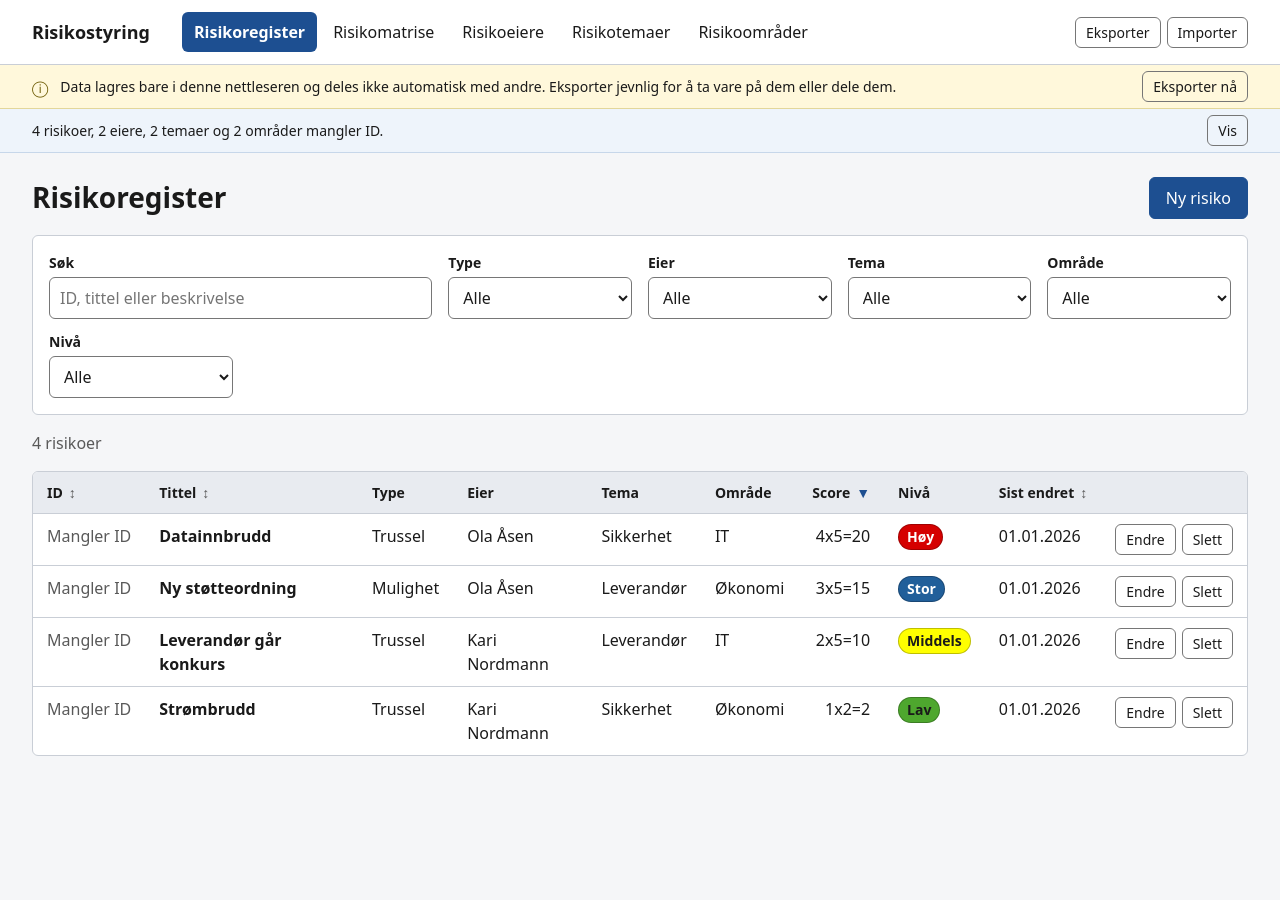
Scenario: filtre i risikoregisteret (K4) › viser bare risikoene til valgt eier (akseptkriterium)
The width and height of the screenshot is (1280, 900).
Expected: the heading "Risikoregister" is shown, [32,181,226,215]
Select "Ola Åsen" in the dropdown labelled "Eier": (740, 298) [648,277,832,319]
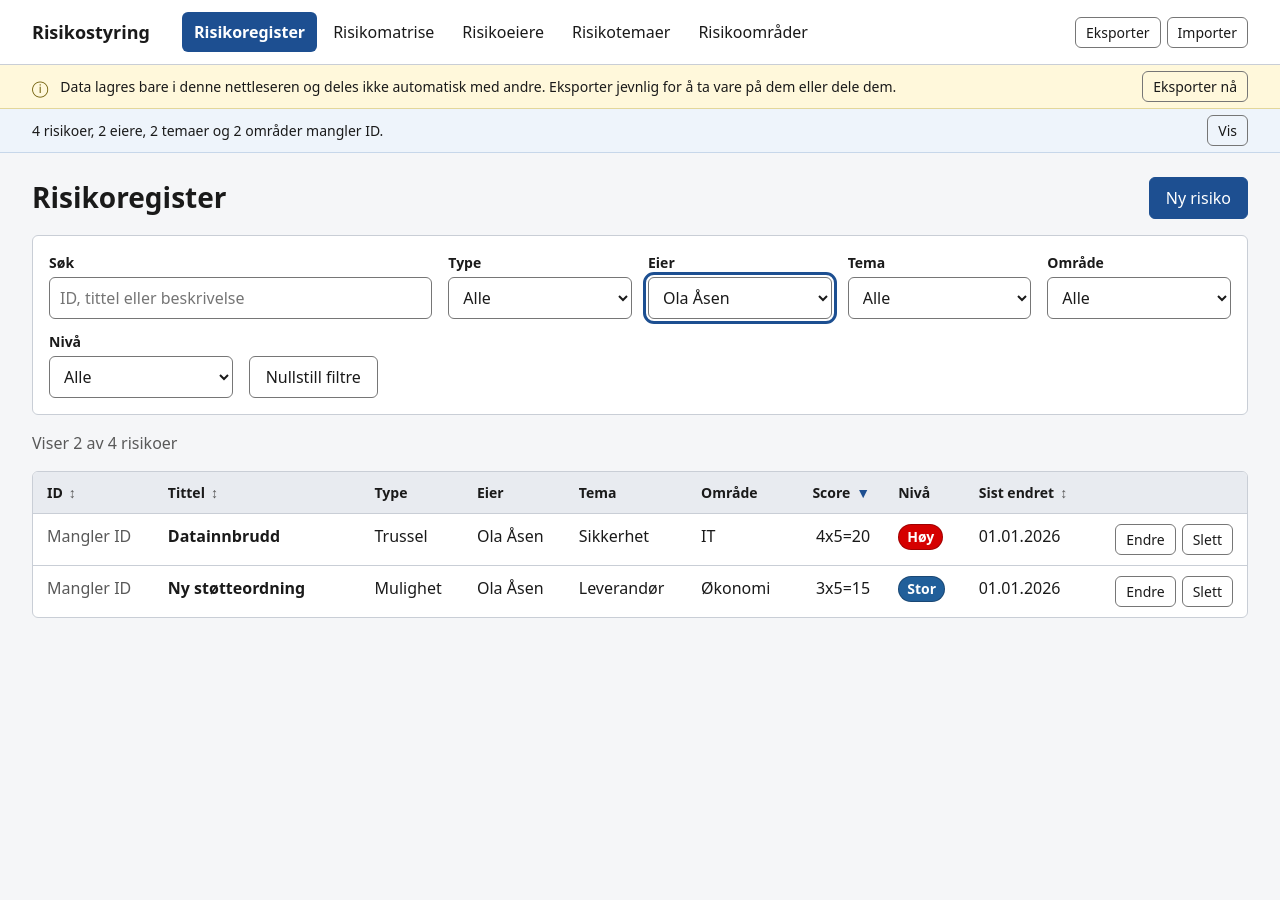
Result: the text "Viser 2 av 4 risikoer" is shown at [32,432,178,454]
